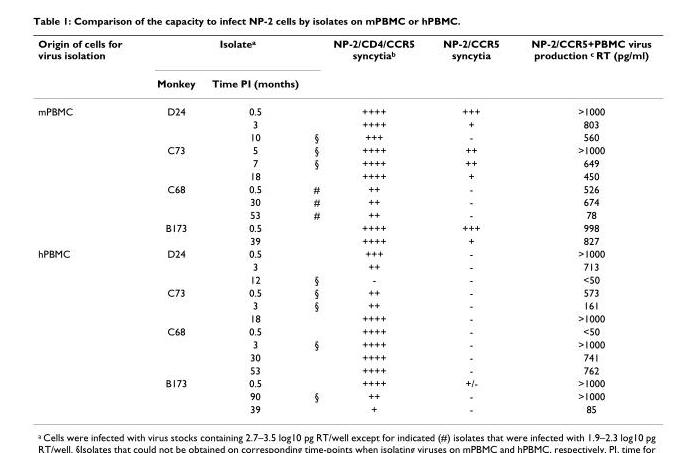table: (37, 36, 650, 414)
table column: (514, 36, 650, 414), (202, 36, 305, 414), (325, 36, 428, 414), (37, 36, 138, 414), (428, 36, 514, 414), (138, 36, 202, 414), (305, 36, 325, 414)
table column header: (37, 36, 650, 96)
table row: (37, 36, 650, 68), (37, 68, 650, 96), (37, 96, 650, 117), (37, 117, 650, 130), (37, 130, 650, 143), (37, 143, 650, 156), (37, 156, 650, 169), (37, 169, 650, 182), (37, 182, 650, 195), (37, 195, 650, 208), (37, 220, 650, 233), (37, 233, 650, 246), (37, 246, 650, 259), (37, 259, 650, 272), (37, 272, 650, 285), (37, 285, 650, 298), (37, 298, 650, 311), (37, 311, 650, 324), (37, 324, 650, 337), (37, 337, 650, 350), (37, 350, 650, 363), (37, 363, 650, 376), (37, 376, 650, 389), (37, 389, 650, 402), (37, 208, 650, 220), (37, 402, 650, 414)
table spanning cell: (37, 246, 138, 414), (37, 96, 138, 246), (514, 36, 650, 96), (325, 36, 428, 96), (37, 36, 138, 96), (138, 36, 325, 68), (428, 36, 514, 96)
